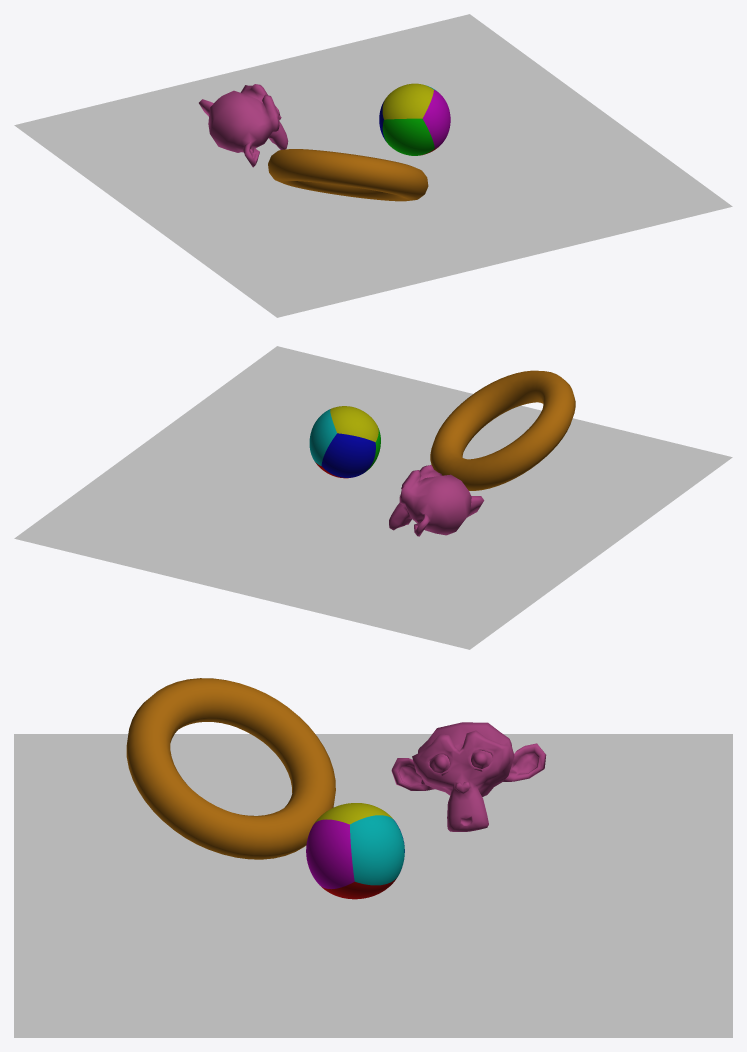
File: colorscene.obj
3 renders of one model, top to bottom at view 1: azimuth 30°, elevation 25°; view 2: azimuth 150°, elevation 25°; view 3: azimuth 270°, elevation 25°, orthographic. The views are drawn at different scales.
Parts seen in each view (by area): view 1: Plane_Plane_WHITE, Torus_Torus_Gold, Suzanne_Suzanne_PINK.005, Cube_Cube_GREEN, Cube_Cube_YELLOW, Cube_Cube_PINK; view 2: Plane_Plane_WHITE, Torus_Torus_Gold, Suzanne_Suzanne_PINK.005, Cube_Cube_BLUE, Cube_Cube_YELLOW, Cube_Cube_AZURE; view 3: Plane_Plane_WHITE, Torus_Torus_Gold, Suzanne_Suzanne_PINK.005, Cube_Cube_AZURE, Cube_Cube_PINK, Cube_Cube_YELLOW, Cube_Cube_RED.
Boxes of the visible parts, x1,y1,x2,y2 form: Plane_Plane_WHITE: (14,14,732,317); Torus_Torus_Gold: (268,149,428,201); Suzanne_Suzanne_PINK.005: (199,84,288,167); Cube_Cube_GREEN: (382,118,434,155); Cube_Cube_YELLOW: (382,83,433,119); Cube_Cube_PINK: (422,90,450,148); Plane_Plane_WHITE: (14,346,732,649); Torus_Torus_Gold: (430,370,575,490); Suzanne_Suzanne_PINK.005: (389,465,484,536); Cube_Cube_BLUE: (321,433,375,477); Cube_Cube_YELLOW: (330,406,378,442); Cube_Cube_AZURE: (309,409,336,465); Plane_Plane_WHITE: (14,734,732,1037); Torus_Torus_Gold: (126,678,335,859); Suzanne_Suzanne_PINK.005: (391,722,546,831); Cube_Cube_AZURE: (350,815,404,885); Cube_Cube_PINK: (306,819,354,889); Cube_Cube_YELLOW: (314,803,392,824); Cube_Cube_RED: (321,878,396,899).
Bounding box in the file's own units: 12.56 × 2.43 × 12.56.
